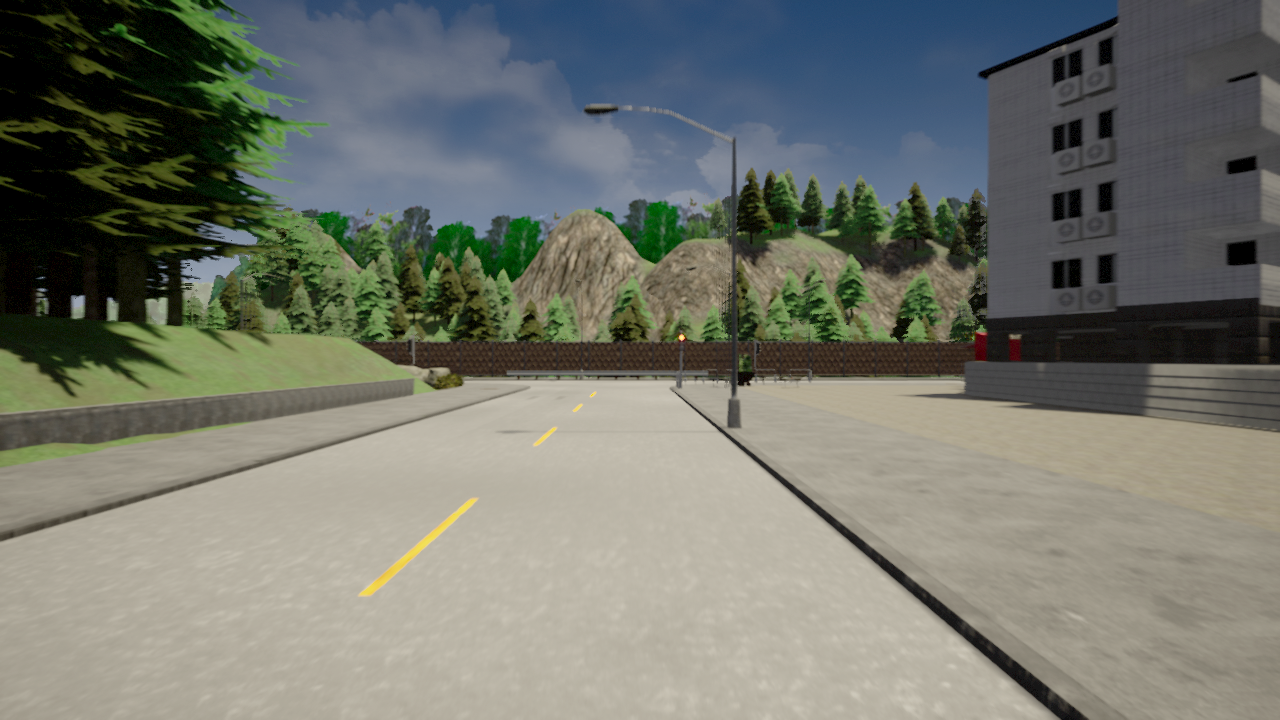red: (677, 333, 686, 351)
